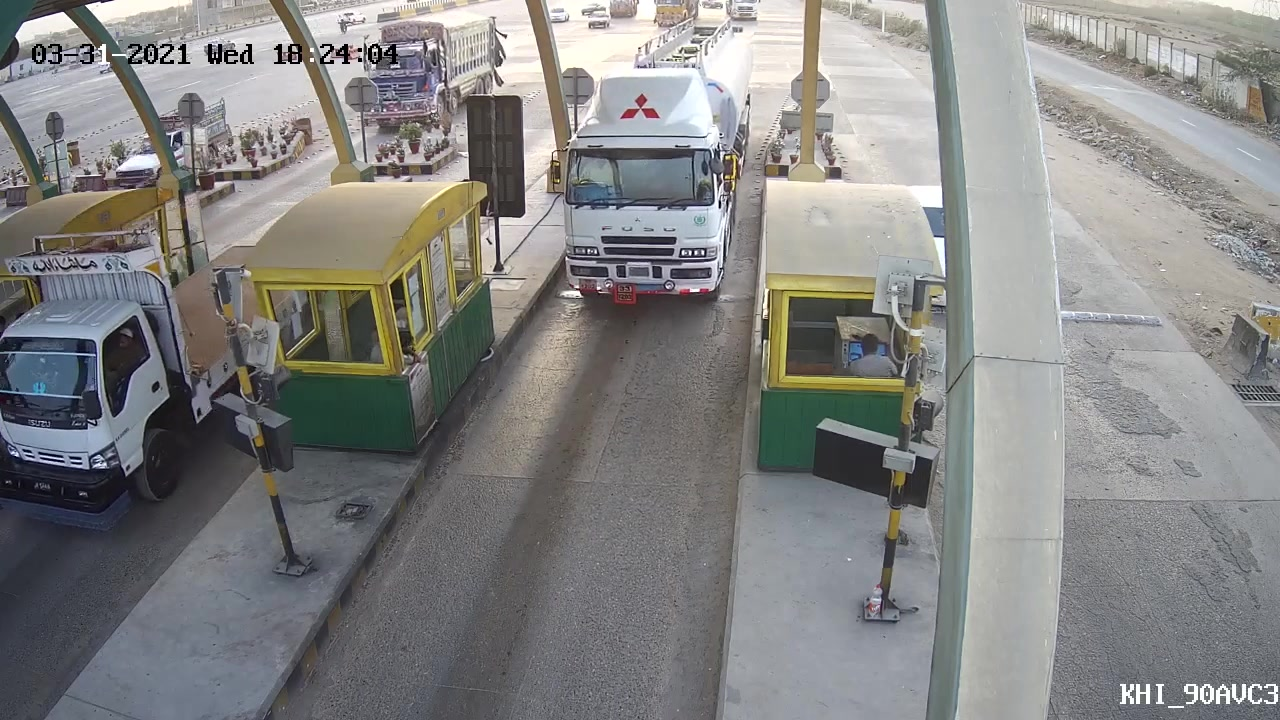F6: (546, 13, 772, 310)
